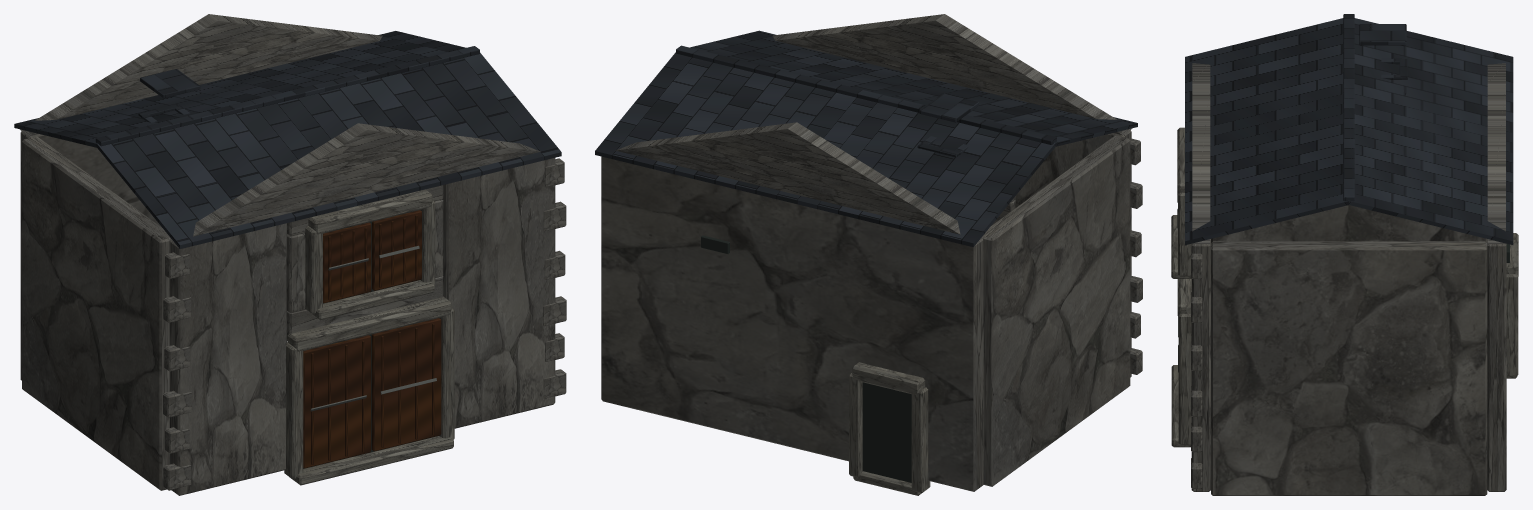
Rendered from house02_derived_barrosan_barn_visual_preflight.glb.
3 views of the same model, side by side, from view 1: azimuth 30°, elevation 25°; view 2: azimuth 150°, elevation 25°; view 3: azimuth 270°, elevation 25° (orthographic).
Visible parts, largest first — view 1: V0343_House02_Derived_Weathered_Slate_Roof_System, V0343_Left_GableWall, V0343_Front_Wall_Left, V0343_Front_Wall_Right, V0343_Front_Resolved_Granite_Gable, V0343_Rear_Resolved_Granite_Gable, V0343_Lower_Double_Livestock_Storage_Door_Right_TimberLeaf, V0343_Lower_Double_Livestock_Storage_Door_Left_TimberLeaf, V0343_Lower_Double_Livestock_Storage_Door_Granite_Lintel, V0343_Upper_Hay_Loading_Shutters_Left_TimberLeaf, V0343_Upper_Hay_Loading_Shutters_Right_TimberLeaf, V0343_Rear_Wall_Core (+14 smaller); view 2: V0343_Rear_Wall_Core, V0343_House02_Derived_Weathered_Slate_Roof_System, V0343_Left_GableWall, V0343_Rear_Resolved_Granite_Gable, V0343_Front_Resolved_Granite_Gable, V0343_Rear_Service_Door_Recess, V0343_Front_Wall_Left, V0343_Rear_Service_Door_Granite_LeftJamb, V0343_Rear_Service_Door_Granite_Lintel, V0343_Rear_Service_Door_Granite_RightJamb, V0343_Rear_Service_Door_Granite_Threshold; view 3: V0343_Right_GableWall, V0343_House02_Derived_Weathered_Slate_Roof_System, V0343_Left_GableWall, V0343_Rear_Wall_Core, V0343_Front_Wall_Right, V0343_Front_Resolved_Granite_Gable, V0343_Rear_Resolved_Granite_Gable, V0343_Lower_Double_Livestock_Storage_Door_Granite_RightJamb, V0343_Rear_Service_Door_Granite_RightJamb, V0343_Upper_Hay_Loading_Shutters_Granite_RightJamb, V0343_Lower_Double_Livestock_Storage_Door_Granite_Threshold, V0343_Upper_Hay_Loading_Shutters_Granite_Lintel (+2 smaller).
Boxes of the visible parts, x1,y1,x2,y2 form: V0343_House02_Derived_Weathered_Slate_Roof_System: [14, 31, 561, 248]; V0343_Left_GableWall: [22, 136, 170, 490]; V0343_Front_Wall_Left: [169, 223, 286, 495]; V0343_Front_Wall_Right: [442, 158, 555, 428]; V0343_Front_Resolved_Granite_Gable: [169, 123, 540, 242]; V0343_Rear_Resolved_Granite_Gable: [20, 14, 382, 136]; V0343_Lower_Double_Livestock_Storage_Door_Right_TimberLeaf: [371, 318, 441, 451]; V0343_Lower_Double_Livestock_Storage_Door_Left_TimberLeaf: [303, 335, 370, 468]; V0343_Lower_Double_Livestock_Storage_Door_Granite_Lintel: [287, 296, 451, 351]; V0343_Upper_Hay_Loading_Shutters_Left_TimberLeaf: [323, 222, 371, 303]; V0343_Upper_Hay_Loading_Shutters_Right_TimberLeaf: [372, 210, 421, 290]; V0343_Rear_Wall_Core: [20, 131, 161, 380]; V0343_Rear_Wall_Core: [601, 156, 983, 491]; V0343_House02_Derived_Weathered_Slate_Roof_System: [595, 30, 1137, 247]; V0343_Left_GableWall: [983, 135, 1130, 486]; V0343_Rear_Resolved_Granite_Gable: [615, 122, 983, 240]; V0343_Front_Resolved_Granite_Gable: [772, 14, 1131, 135]; V0343_Rear_Service_Door_Recess: [862, 382, 911, 482]; V0343_Front_Wall_Left: [1015, 130, 1131, 377]; V0343_Rear_Service_Door_Granite_LeftJamb: [911, 387, 930, 492]; V0343_Rear_Service_Door_Granite_Lintel: [852, 362, 925, 394]; V0343_Rear_Service_Door_Granite_RightJamb: [849, 373, 862, 477]; V0343_Rear_Service_Door_Granite_Threshold: [853, 471, 929, 495]; V0343_Right_GableWall: [1211, 241, 1487, 495]; V0343_House02_Derived_Weathered_Slate_Roof_System: [1185, 14, 1513, 245]; V0343_Left_GableWall: [1211, 205, 1487, 242]; V0343_Rear_Wall_Core: [1487, 239, 1506, 491]; V0343_Front_Wall_Right: [1191, 239, 1210, 491]; V0343_Front_Resolved_Granite_Gable: [1192, 63, 1210, 243]; V0343_Rear_Resolved_Granite_Gable: [1487, 63, 1505, 243]; V0343_Lower_Double_Livestock_Storage_Door_Granite_RightJamb: [1178, 313, 1191, 445]; V0343_Rear_Service_Door_Granite_RightJamb: [1506, 274, 1518, 376]; V0343_Upper_Hay_Loading_Shutters_Granite_RightJamb: [1178, 192, 1191, 276]; V0343_Lower_Double_Livestock_Storage_Door_Granite_Threshold: [1171, 365, 1190, 447]; V0343_Upper_Hay_Loading_Shutters_Granite_Lintel: [1177, 127, 1184, 194].
Size of the model in its own units: 8.04 by 6.45 by 6.12.
7 materials, 5 textured.
